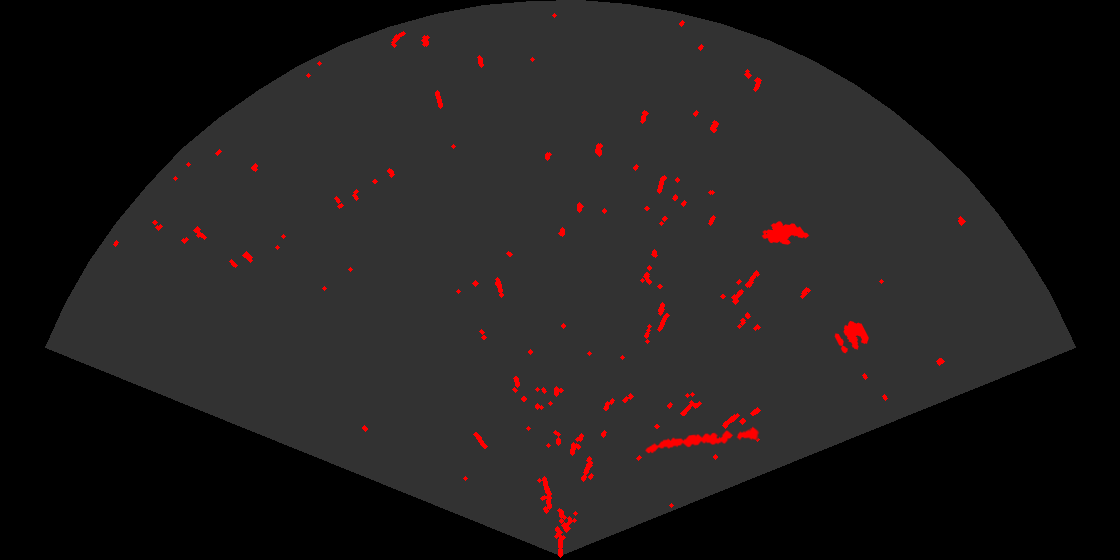AUV: (760, 220, 811, 246)
ball: (833, 319, 871, 355)
chain: (644, 425, 760, 455)
